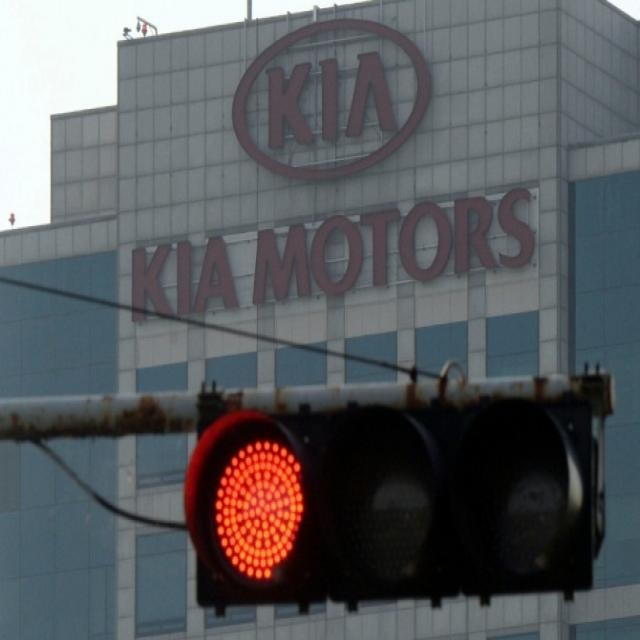red_light: (183, 402, 611, 604)
